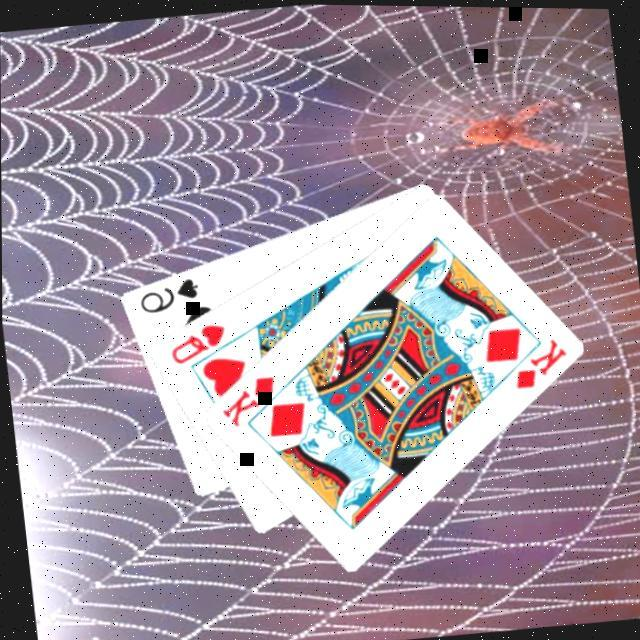9S: (130, 270, 201, 316)
KD: (212, 369, 279, 430), (504, 330, 570, 391)
QH: (161, 317, 228, 367)
